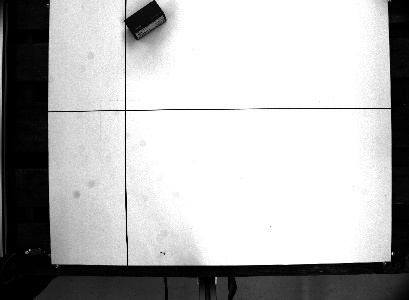b3: (121, 1, 170, 42)
